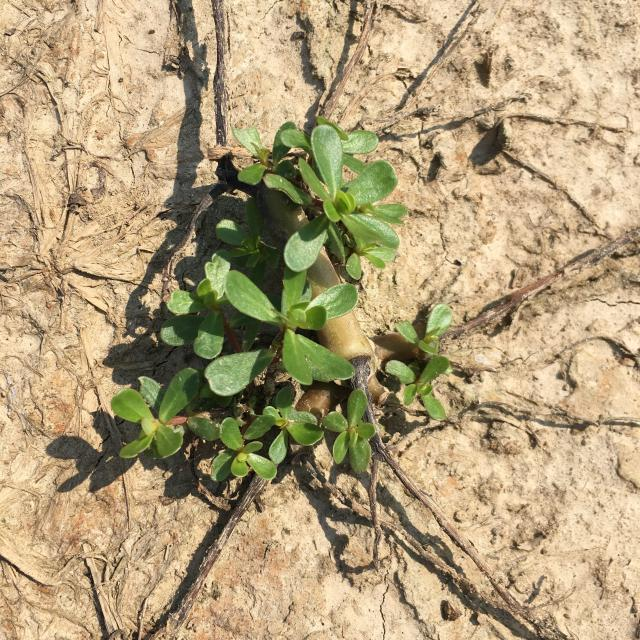Purslane: (109, 116, 454, 482)
